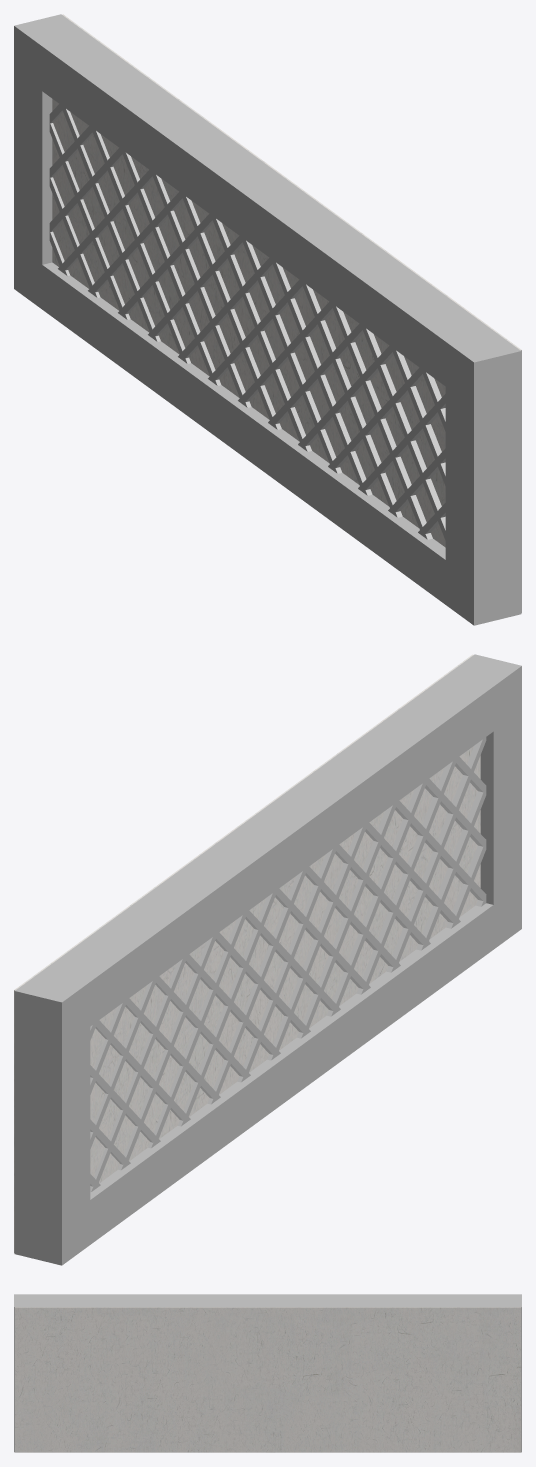
File: SM_Window02Z-b.fbx
The picture shows the model from 3 angles, top to bottom: view 1: azimuth 30°, elevation 25°; view 2: azimuth 150°, elevation 25°; view 3: azimuth 270°, elevation 25°; orthographic projection. The views are drawn at different scales.
Parts seen in each view (by area): view 1: SM_Window02Z-b; view 2: SM_Window02Z-b; view 3: SM_Window02Z-b.
Part boxes in pixels (<box>): SM_Window02Z-b: <box>14,14,521,625</box>; SM_Window02Z-b: <box>14,654,521,1265</box>; SM_Window02Z-b: <box>14,1294,521,1452</box>.
Bounding box in the file's own units: 6.26 × 102 × 32.34.
